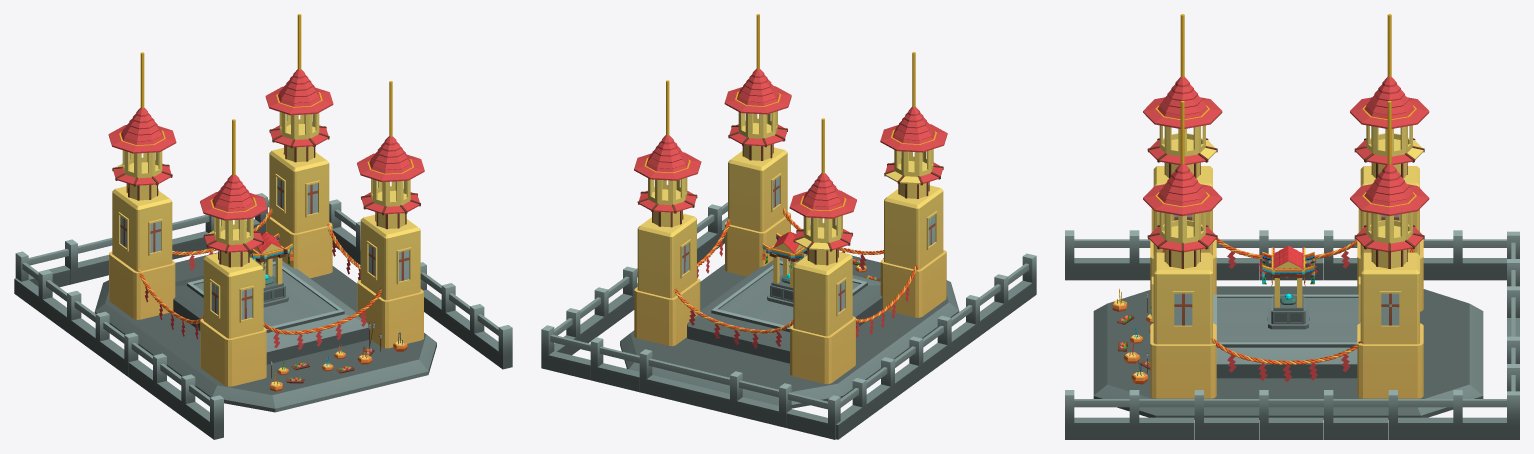
Rendered from M_CHURCH COLO 02.fbx.
3 views of the same model, side by side, from view 1: azimuth 30°, elevation 25°; view 2: azimuth 150°, elevation 25°; view 3: azimuth 270°, elevation 25° (orthographic). The views are drawn at different scales.
Parts seen in each view (by area): view 1: BARRIER.004; view 2: BARRIER.004; view 3: BARRIER.004.
Boxes of the visible parts, x1,y1,x2,y2 form: BARRIER.004: (14,14,512,439); BARRIER.004: (541,14,1036,439); BARRIER.004: (1065,14,1519,439).
Size of the model in its own units: 5067 by 4290 by 5901.
